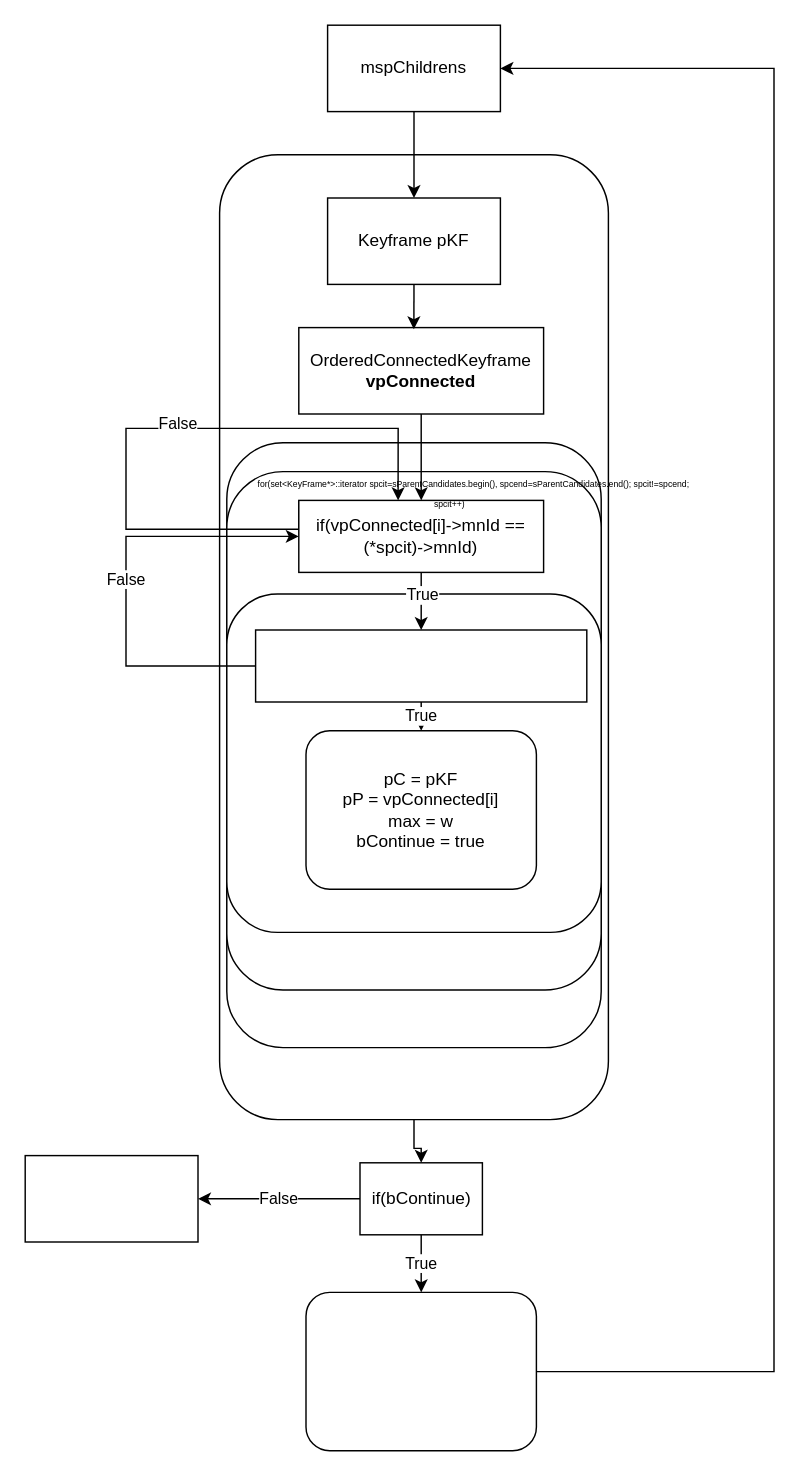
Image size: 811x1476. Some labels were removed from this diagram. The centre of each missing label's shape, as x and y in pixels:
Break: the point at 111,1198
if(pKF->GetWeight(vpConnected[i]) >max): the point at 420,665
pC->ChangeParent(pP) sParentCandidates.insert(pC) mspChildrens.erase(pC): the point at 420,1371
